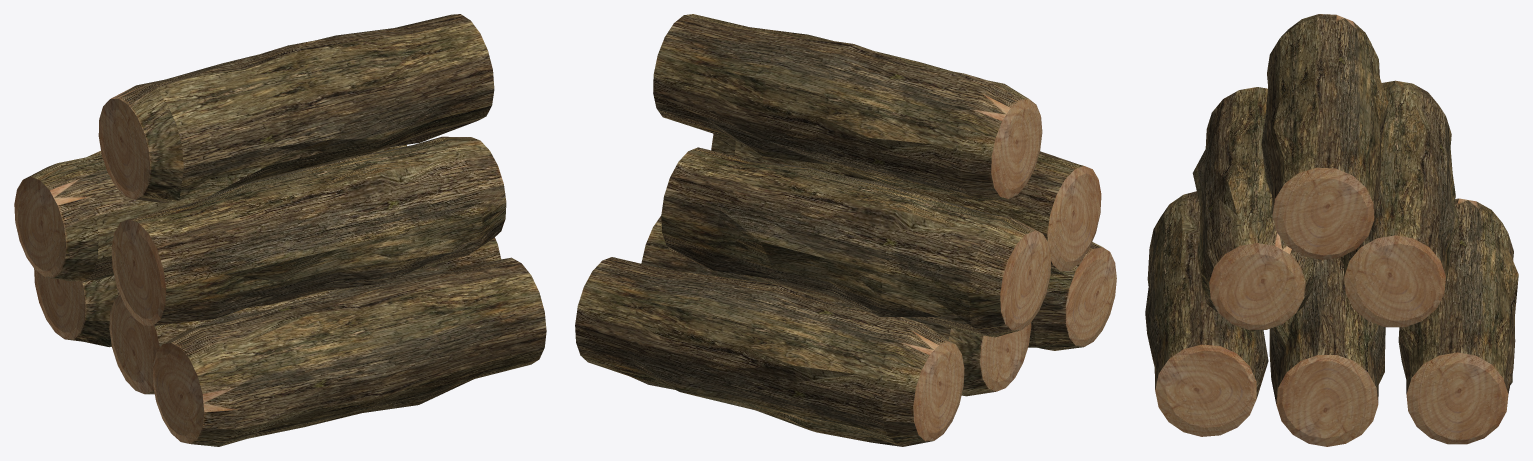
The picture shows the model from 3 angles, left to right: view 1: azimuth 30°, elevation 25°; view 2: azimuth 150°, elevation 25°; view 3: azimuth 270°, elevation 25°; orthographic projection. The views are drawn at different scales.
Parts seen in each view (by area): view 1: Object_WoodTexture.jpg; view 2: Object_WoodTexture.jpg; view 3: Object_WoodTexture.jpg.
Part boxes in pixels (x1=…): Object_WoodTexture.jpg: x1=14, y1=14, x2=546, y2=446; Object_WoodTexture.jpg: x1=575, y1=14, x2=1116, y2=446; Object_WoodTexture.jpg: x1=1145, y1=14, x2=1518, y2=446.
Bounding box in the file's own units: 2.5 × 1.92 × 2.16.
2 materials, 2 textured.
